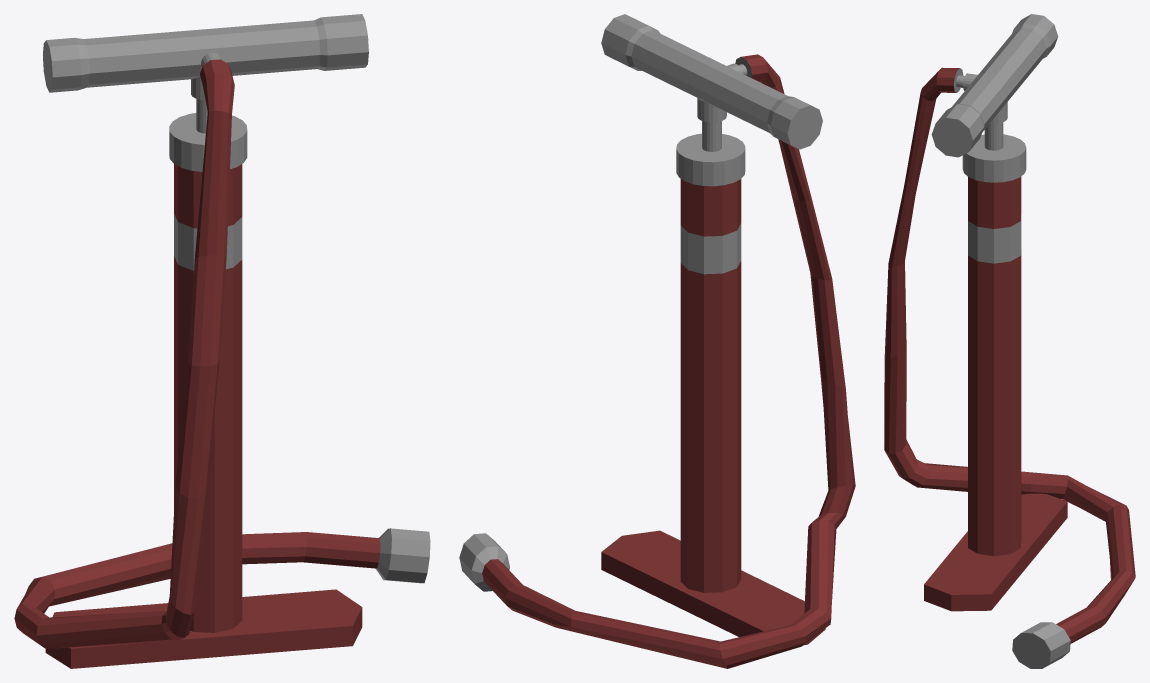
File: Pump.fbx
3 renders of one model, left to right at view 1: azimuth 30°, elevation 25°; view 2: azimuth 150°, elevation 25°; view 3: azimuth 270°, elevation 25°, orthographic. The views are drawn at different scales.
Parts seen in each view (by area): view 1: Pump; view 2: Pump; view 3: Pump.
Boxes of the visible parts, x1,y1,x2,y2 form: Pump: [14, 14, 430, 668]; Pump: [459, 14, 855, 668]; Pump: [884, 14, 1135, 668].
Bounding box in the file's own units: 53.21 × 35.39 × 78.86.
